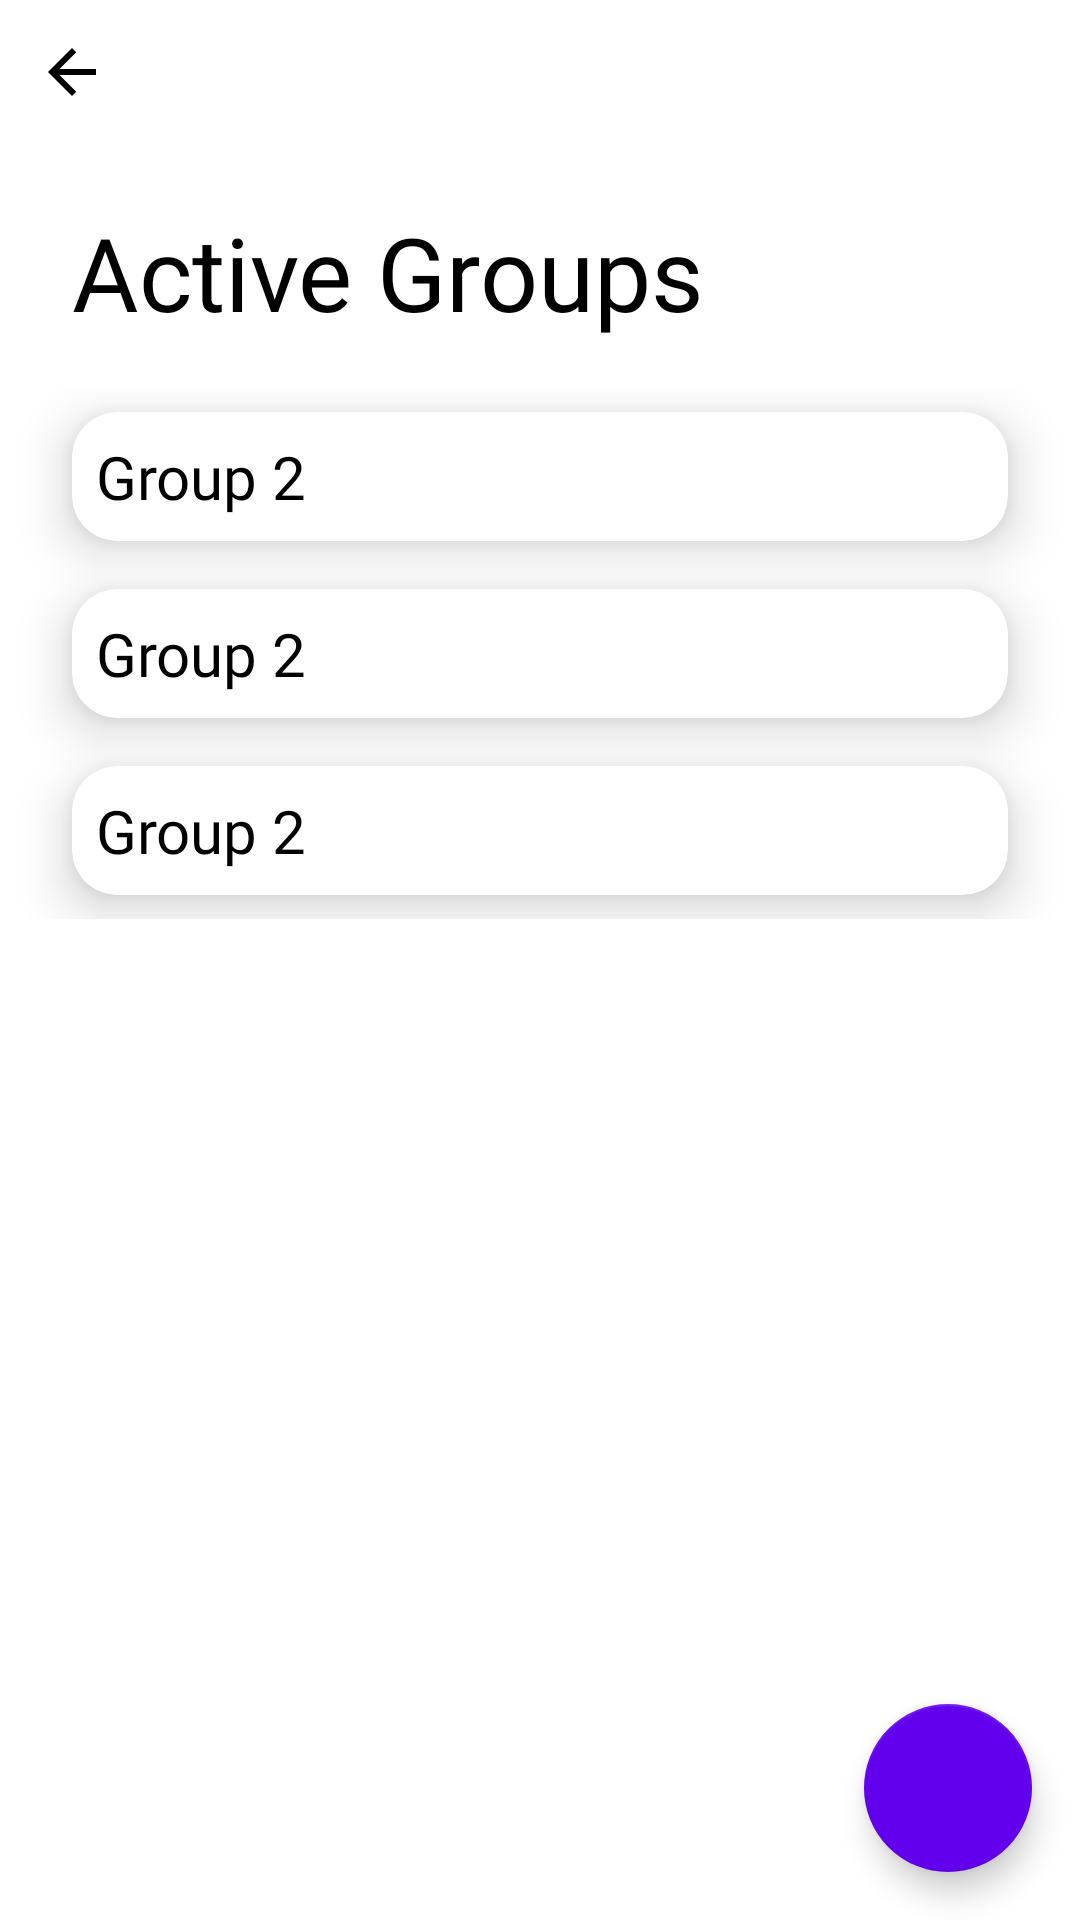

Point at icon controls on the screen. Image size 1080*1920, points as (x,y).
Return Button: (72,72)
